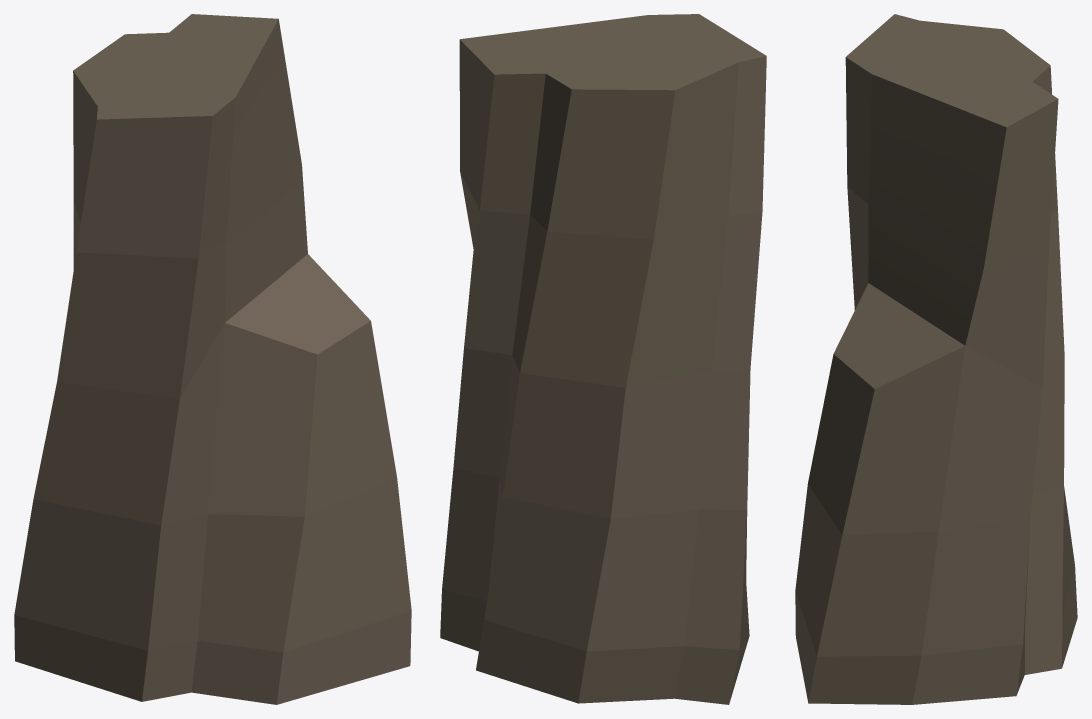
The model's file is ice_rock_pillar_c.fbx.
3 views of the same model, side by side, from view 1: azimuth 30°, elevation 25°; view 2: azimuth 150°, elevation 25°; view 3: azimuth 270°, elevation 25° (orthographic). The views are drawn at different scales.
Visible parts, largest first — view 1: rock_pillar_c; view 2: rock_pillar_c; view 3: rock_pillar_c.
Part boxes in pixels (x1=…): rock_pillar_c: x1=14, y1=14, x2=411, y2=704; rock_pillar_c: x1=440, y1=14, x2=766, y2=704; rock_pillar_c: x1=795, y1=14, x2=1077, y2=704.
Bounding box in the file's own units: 3.6 × 6.58 × 2.99.
